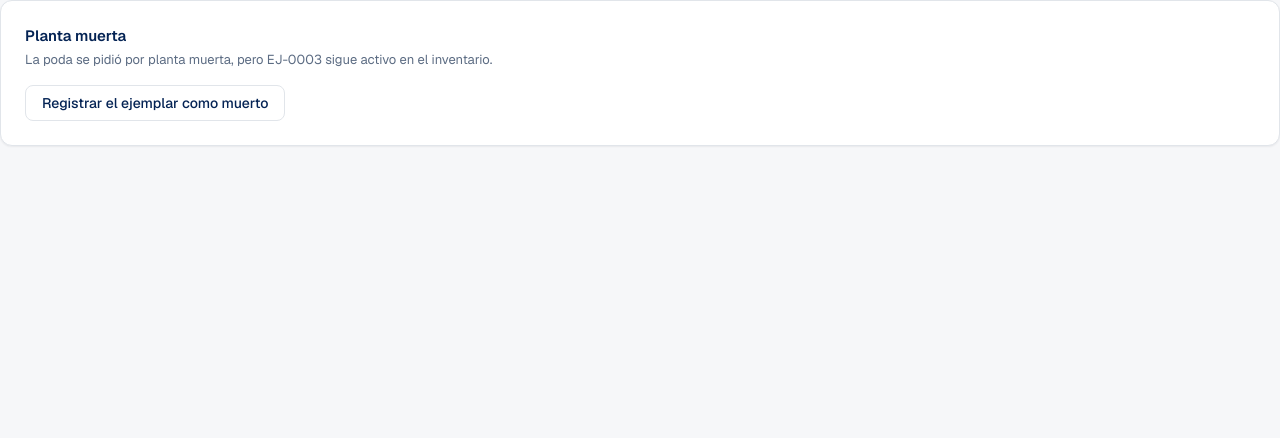
Planta muerta en la poda a demanda › muestra el error del backend sin cambiar nada
Click the button "Registrar el ejemplar como muerto".
click(155, 103)  # box [25, 85, 286, 121]
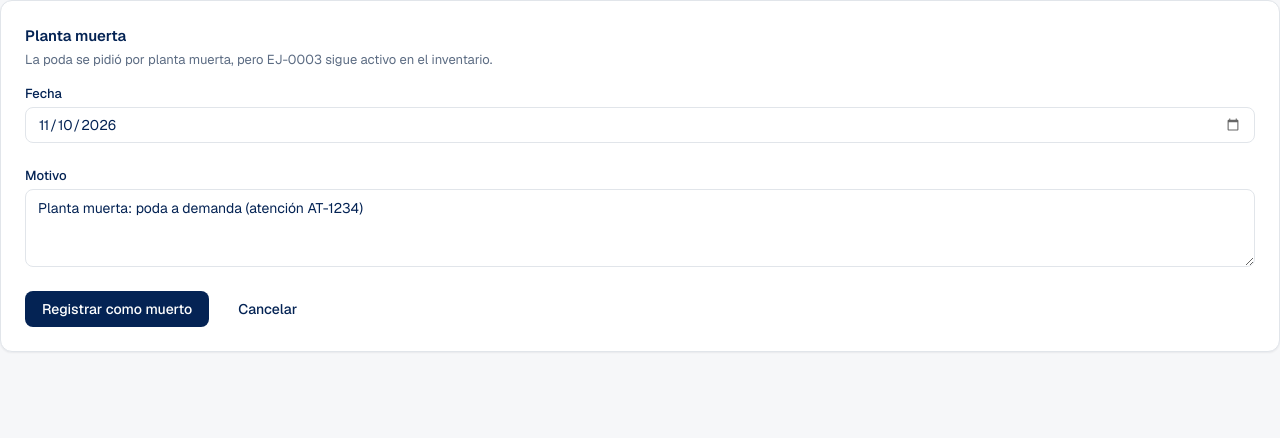
Click the button "Registrar como muerto".
click(117, 309)  # box [25, 291, 209, 327]
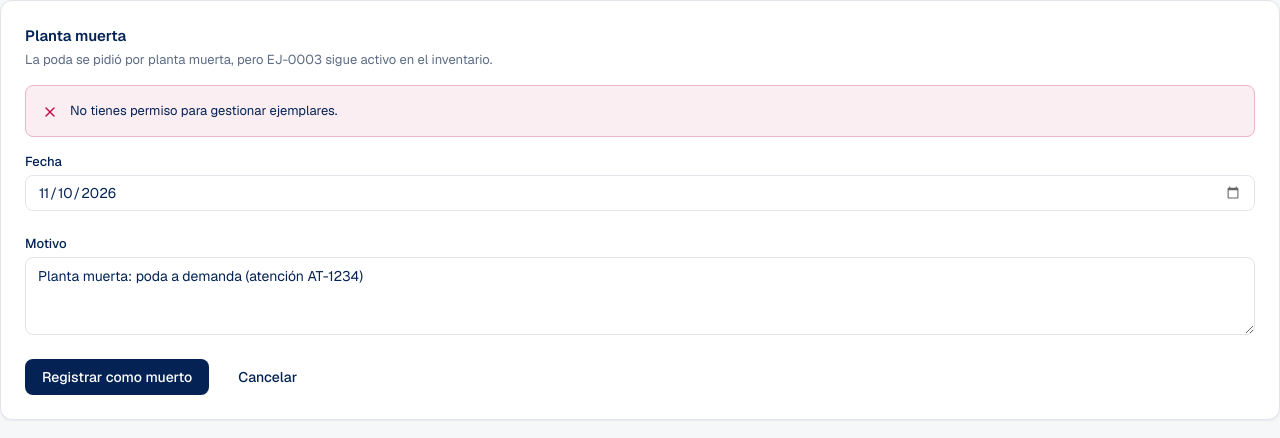
expect the text "No tienes permiso para gestionar ejemplares." is shown: met, box [70, 102, 338, 119]
